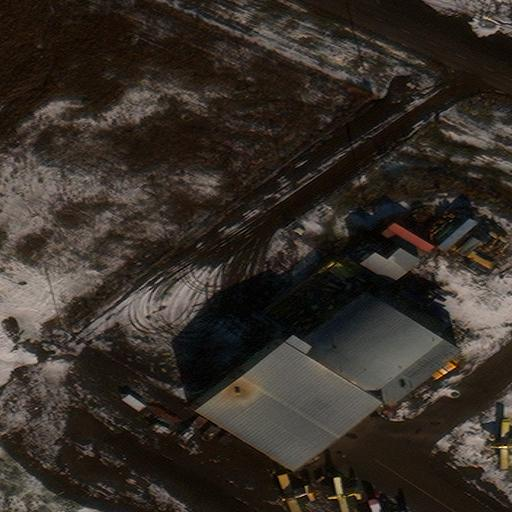Medium Civil Transport: (486, 420, 511, 470)
Small Civil Transport: (276, 476, 315, 511), (325, 478, 363, 511)
